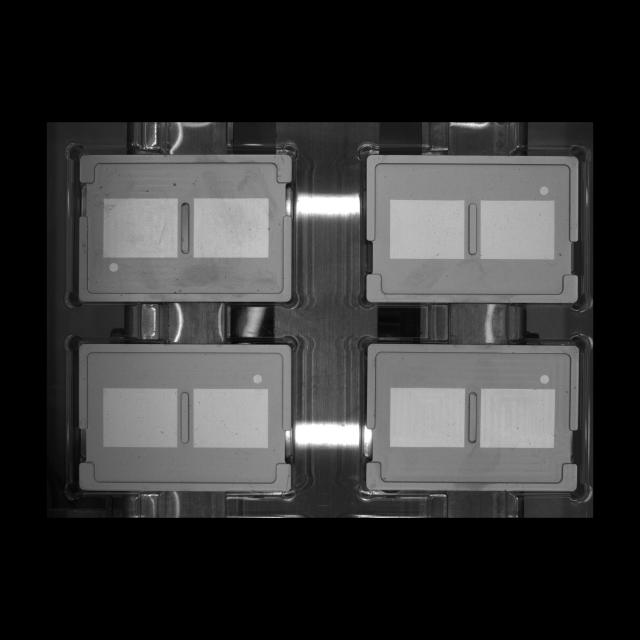product: (62, 139, 303, 311), (355, 141, 591, 315), (65, 332, 302, 501), (358, 334, 592, 503)
